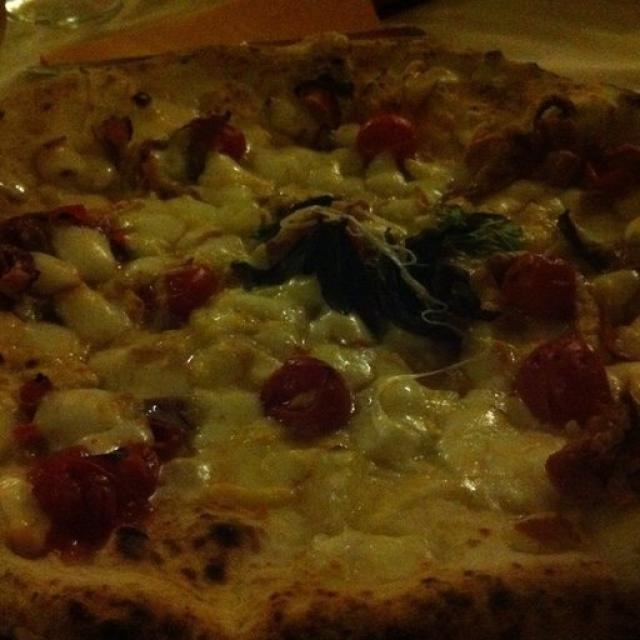Basil: (257, 220, 412, 331), (422, 213, 509, 304), (591, 410, 640, 492), (550, 217, 612, 269), (138, 395, 190, 452), (0, 218, 44, 259)
Pepperoni: (265, 359, 347, 437), (524, 349, 606, 419), (500, 251, 572, 319), (354, 113, 410, 154), (159, 273, 211, 316), (212, 121, 250, 155)
Pizza: (0, 29, 640, 640)
